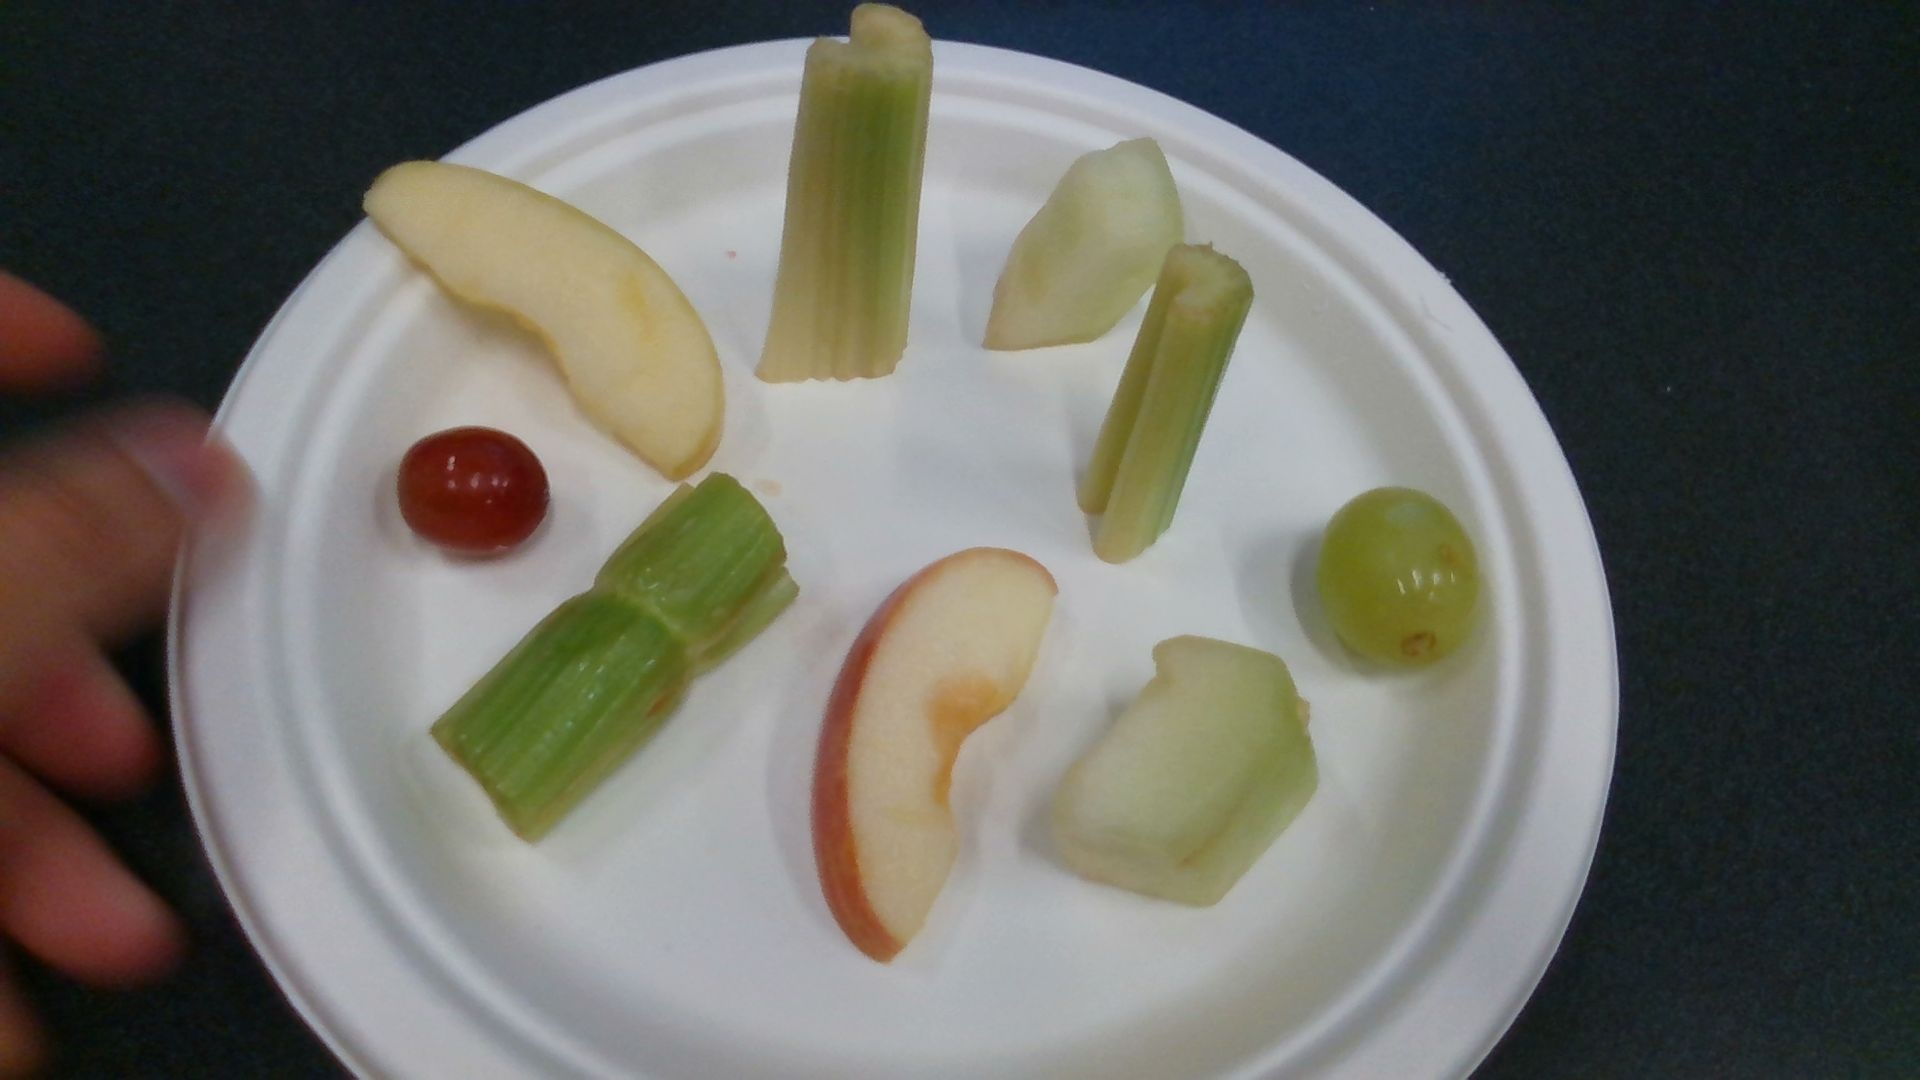apple: (363, 164, 725, 475), (814, 550, 1059, 963)
cantalope: (1054, 638, 1313, 905), (986, 136, 1178, 353)
celery: (429, 476, 794, 840), (757, 1, 930, 380), (1083, 243, 1251, 563)
grape_green: (1324, 488, 1477, 670)
grape_purple: (400, 431, 549, 553)
